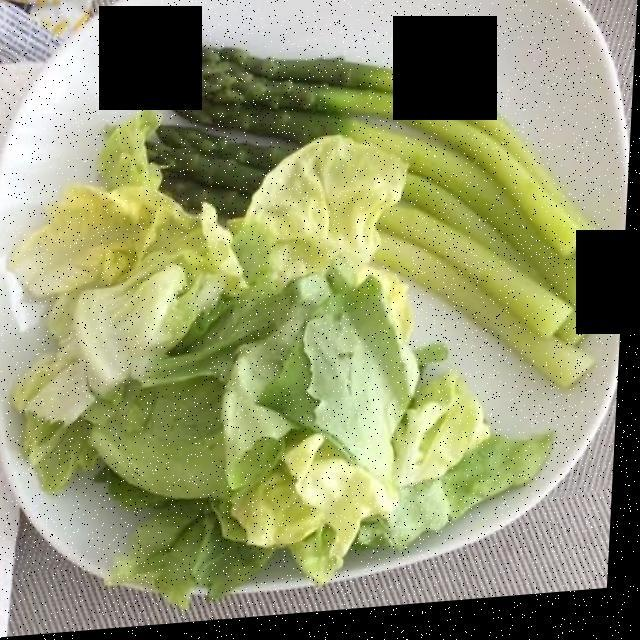asparagus: (145, 35, 614, 396)
salad: (13, 112, 576, 589)
